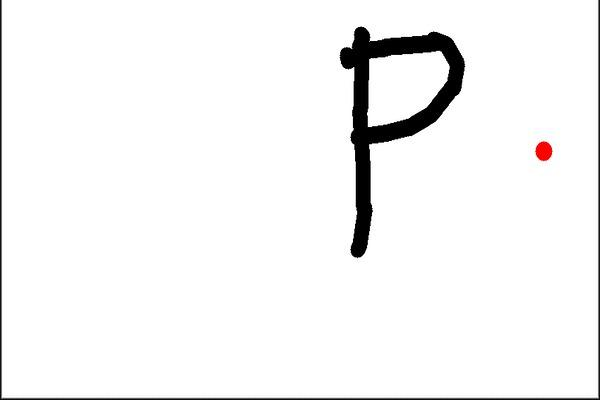P: (319, 18, 470, 268)
